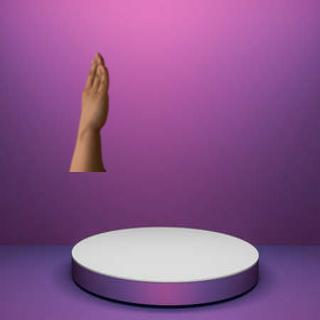RIGHT: (72, 49, 116, 136)
